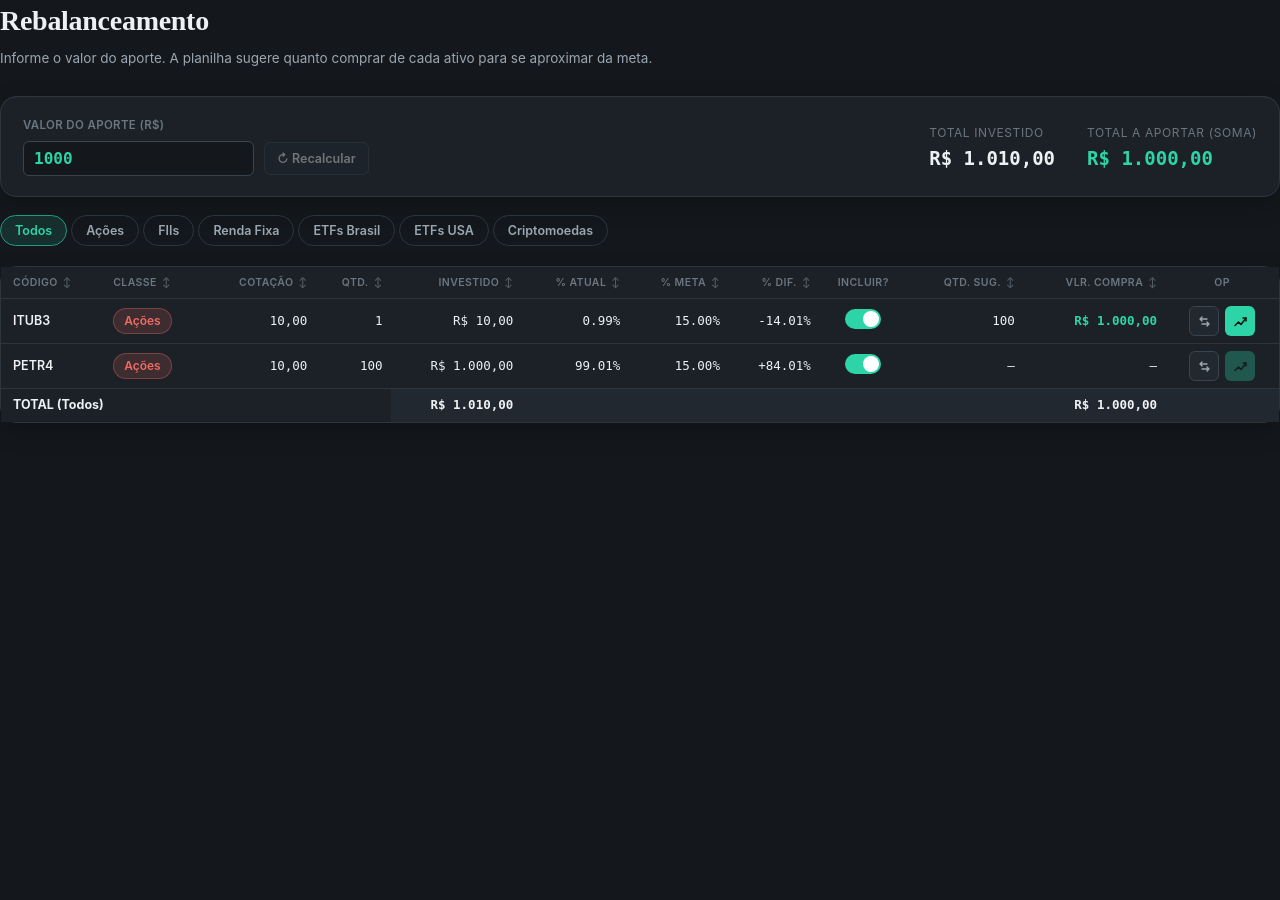
Scenario: Rebalanceamento — modal manual de compra/venda › abre no modo Comprar por padrão, mostrando o código do ativo no título
Click the button titled "Lançar operação manualmente" in the row of "ITUB3" at (1204, 321), box x1=1189 y1=306 x2=1219 y2=336
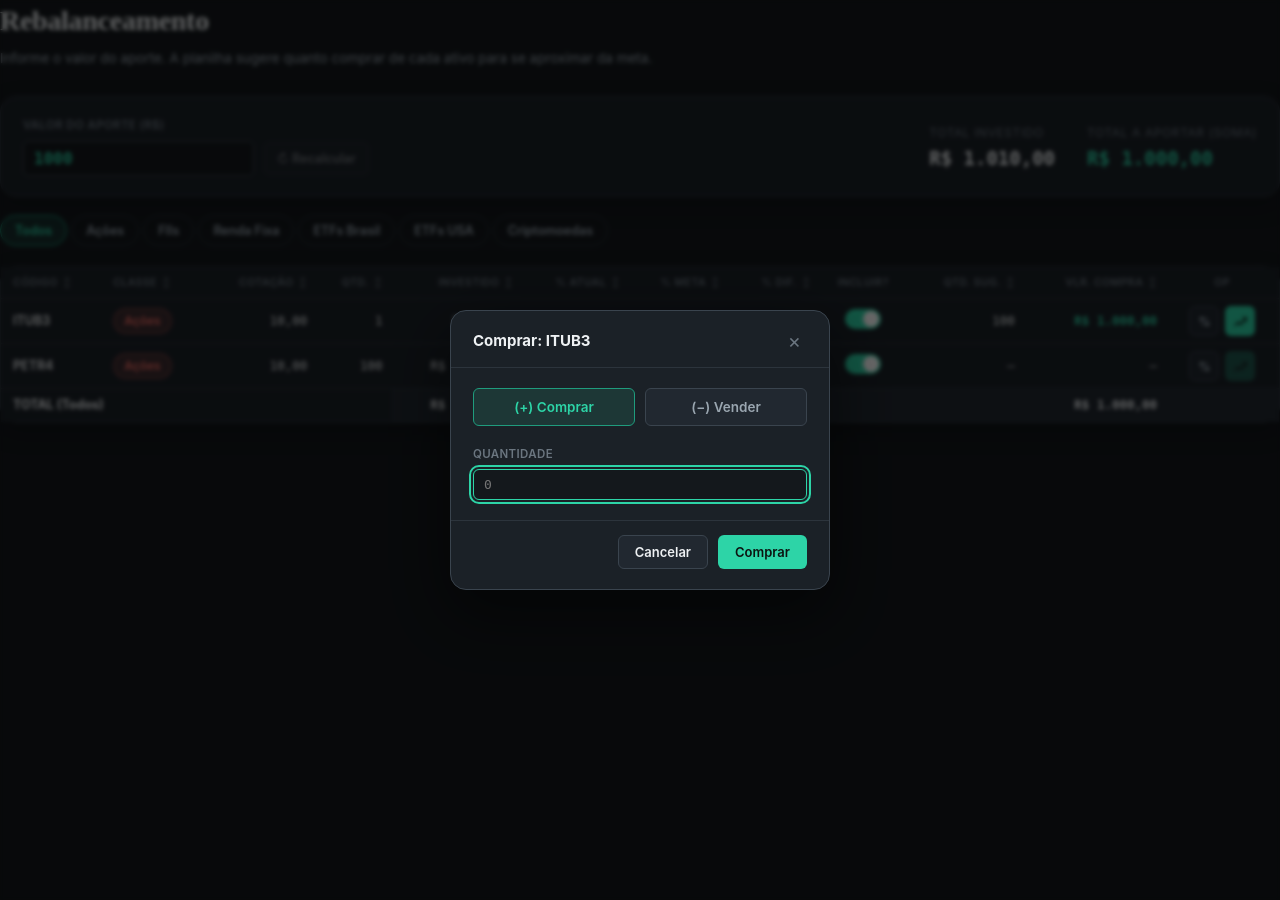
expect the text "Comprar: ITUB3" is shown: met, box x1=473 y1=330 x2=590 y2=352
